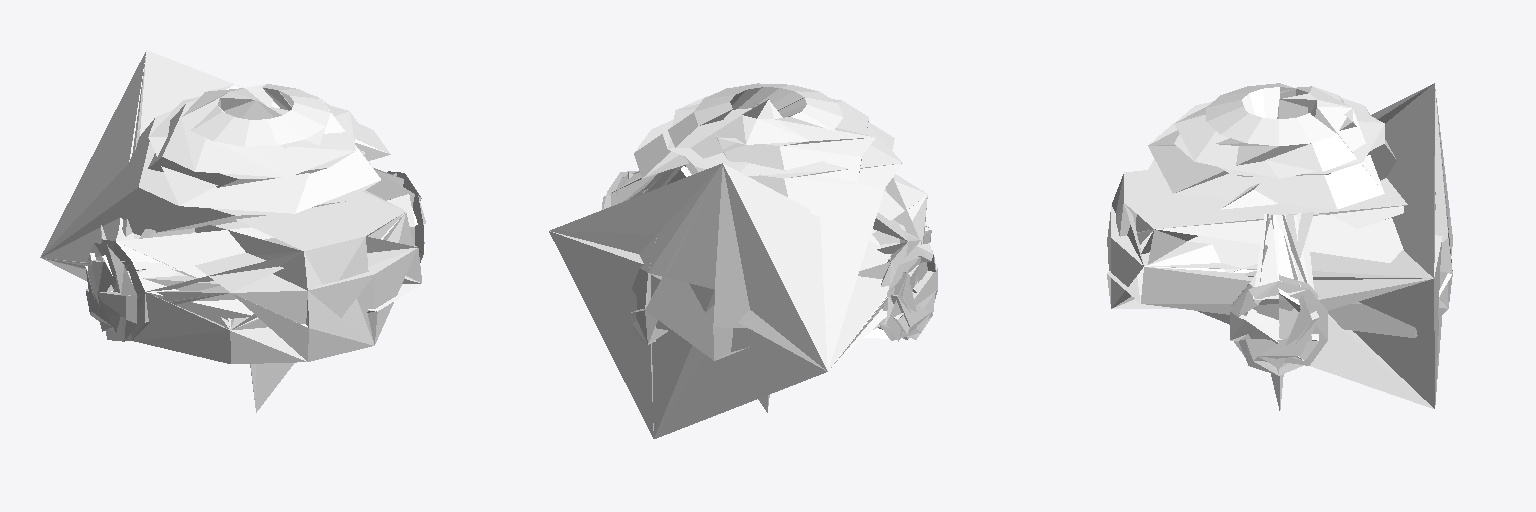
The model's file is Booster.obj.
3 renders of one model, left to right at view 1: azimuth 30°, elevation 25°; view 2: azimuth 150°, elevation 25°; view 3: azimuth 270°, elevation 25°, orthographic.
Parts seen in each view (by area): view 1: obj9, obj122, obj121, obj7, obj148, obj8; view 2: obj9, obj148, obj7, obj122, obj8, obj121; view 3: obj9, obj7, obj121, obj122, obj8, obj148.
Part boxes in pixels (x1,y1,x2,y2): obj9: (42,84,425,412); obj122: (40,51,421,362); obj121: (43,50,420,363); obj7: (42,192,421,361); obj148: (230,217,417,363); obj8: (44,212,417,345); obj9: (602,83,937,412); obj148: (550,164,930,438); obj7: (549,165,930,438); obj122: (651,164,931,428); obj8: (550,168,916,435); obj121: (651,168,931,430); obj9: (1107,83,1452,410); obj7: (1113,171,1451,401); obj121: (1108,83,1452,407); obj122: (1107,84,1451,408); obj8: (1107,170,1452,400); obj148: (1112,156,1452,337).
Size of the model in its own units: 2.97 by 2.91 by 2.91.